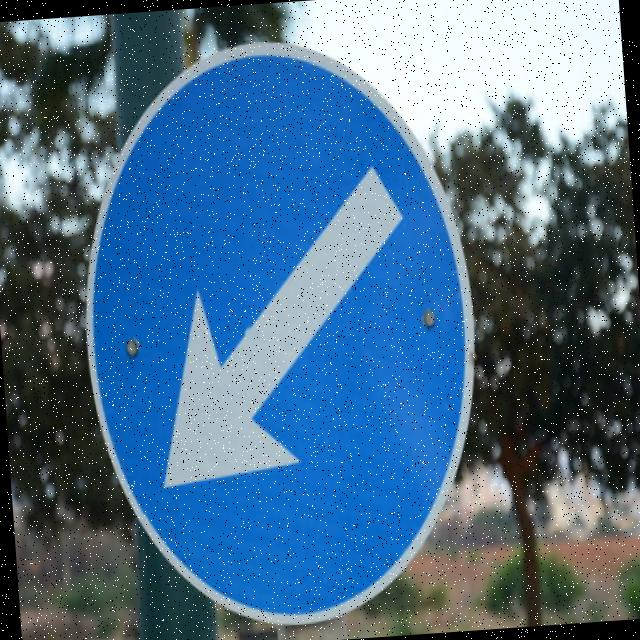compulsory_keep_right: (56, 19, 501, 640)
